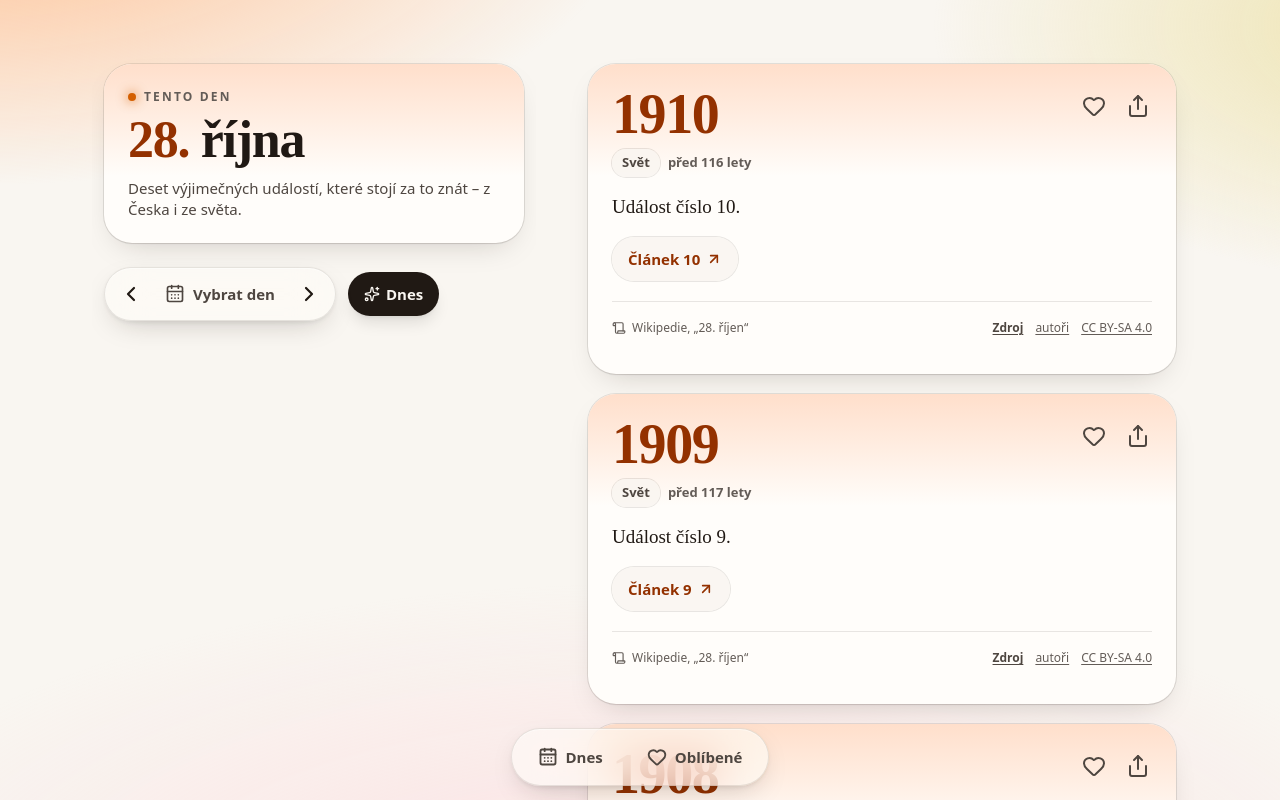
Test case: Oblíbené › fungují i bez localStorage (prohlížeč úložiště blokuje)
Click the button named "Přidat do oblíbených" in the row of "1910".
click(1094, 106)  # box 1072,84 -> 1116,128
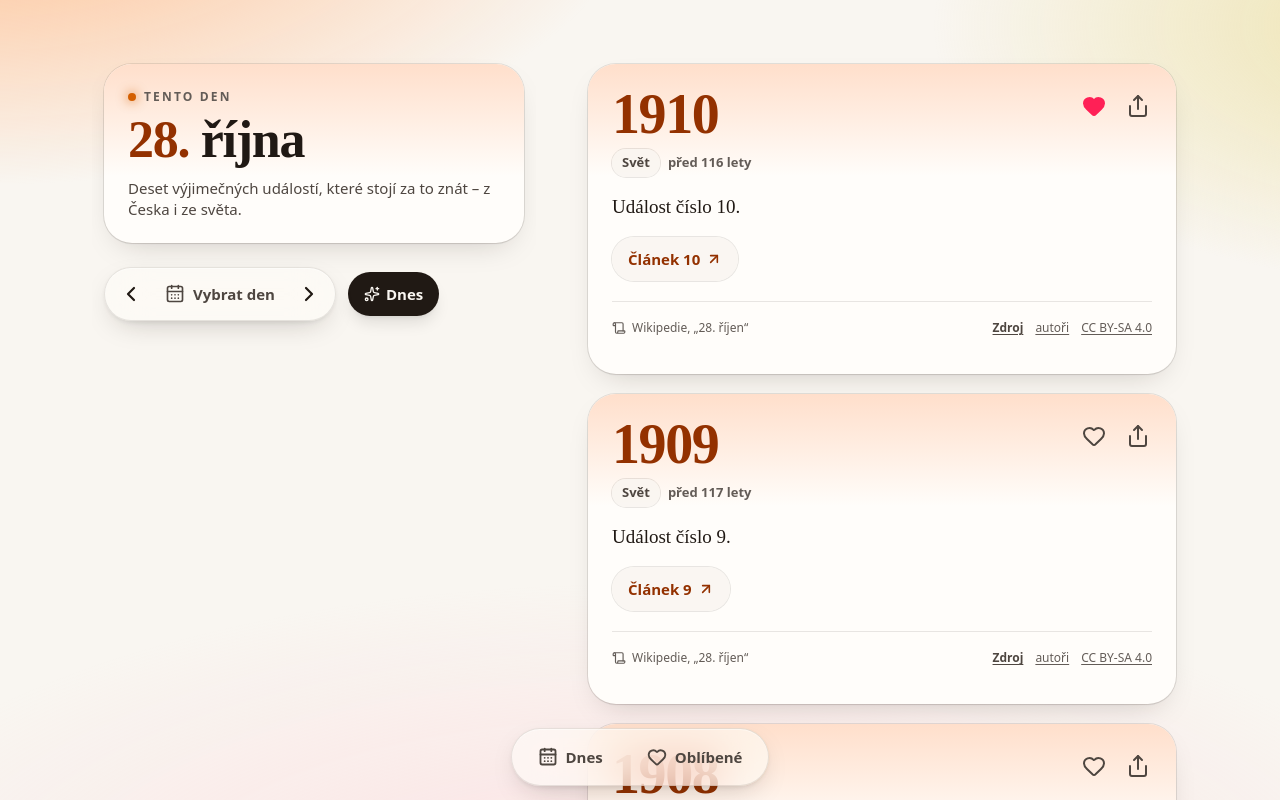
Now the button named "Odebrat z oblíbených" is shown, box 1072,84 -> 1116,128
Click the link "Oblíbené".
click(695, 757)  # box 647,747 -> 742,767
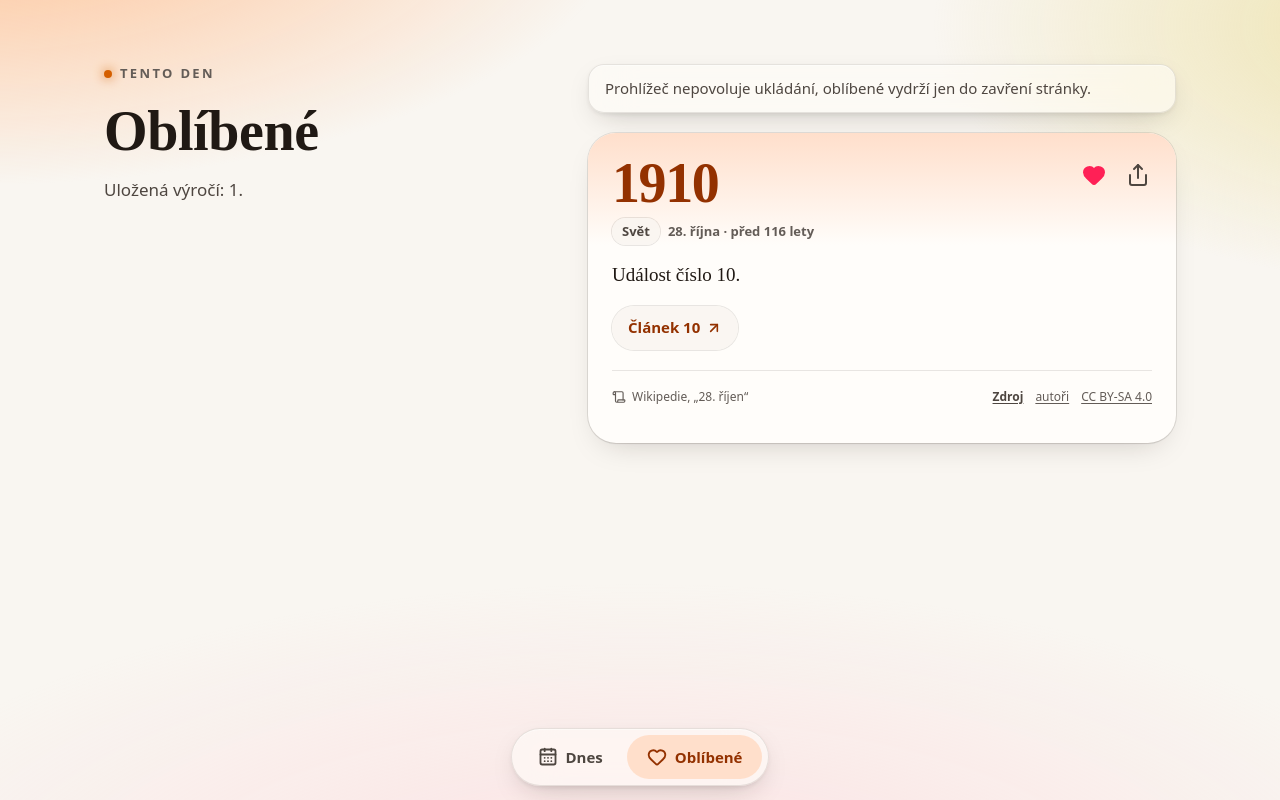
Now the text "oblíbené vydrží jen do zavření stránky" is shown, box 605,78 -> 1091,98
